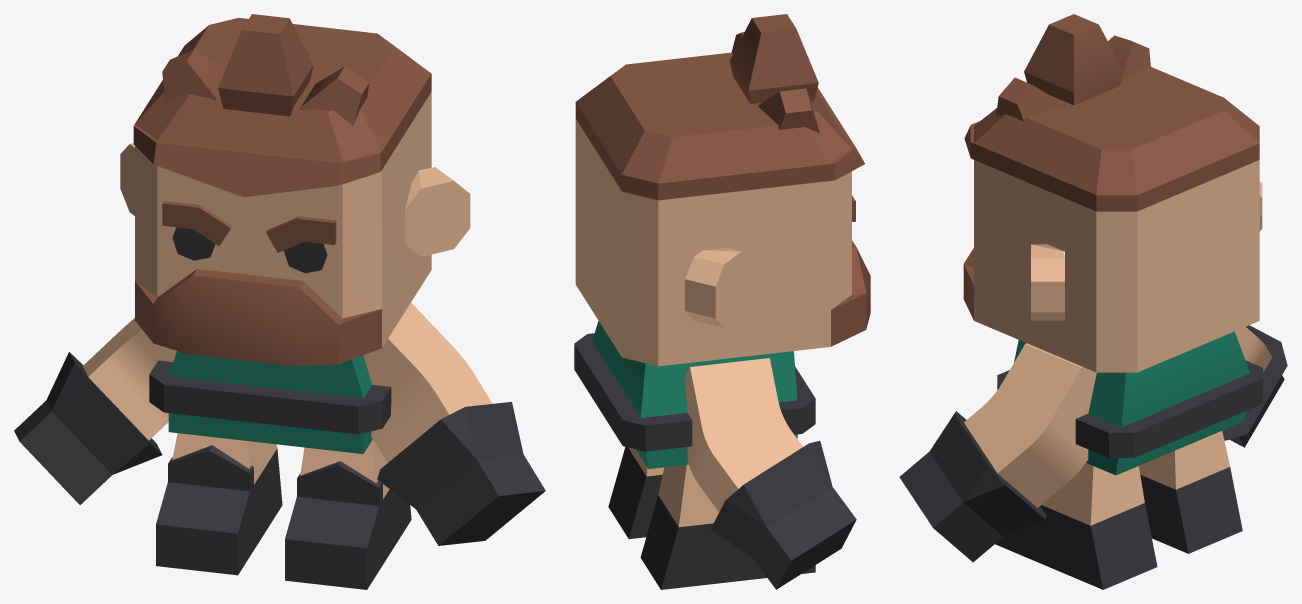
File: char.fbx
3 views of the same model, side by side, from view 1: azimuth 30°, elevation 25°; view 2: azimuth 150°, elevation 25°; view 3: azimuth 270°, elevation 25° (orthographic). The views are drawn at different scales.
Visible parts, largest first — view 1: head, Arm_L, Arm_R, leg-r, leg-l, body, gürtel; view 2: head, Arm_R, leg-r, gürtel, body, leg-l; view 3: head, Arm_L, leg-l, body, leg-r, gürtel, Arm_R.
Boxes of the visible parts, x1,y1,x2,y2 form: head: (120, 14, 470, 366); Arm_L: (363, 302, 545, 545); Arm_R: (14, 318, 176, 504); leg-r: (156, 433, 282, 575); leg-l: (285, 439, 411, 589); body: (168, 351, 372, 453); gürtel: (149, 360, 391, 434); head: (575, 14, 870, 366); Arm_R: (685, 358, 856, 589); leg-r: (640, 464, 815, 589); gürtel: (574, 333, 815, 451); body: (592, 321, 797, 468); leg-l: (608, 447, 663, 539); head: (963, 14, 1262, 372); Arm_L: (899, 343, 1096, 562); leg-l: (995, 463, 1157, 589); body: (1014, 331, 1249, 475); leg-r: (1139, 431, 1242, 553); gürtel: (997, 360, 1262, 457); Arm_R: (1222, 325, 1287, 447).
Size of the model in its own units: 62.14 by 62.14 by 87.23.
